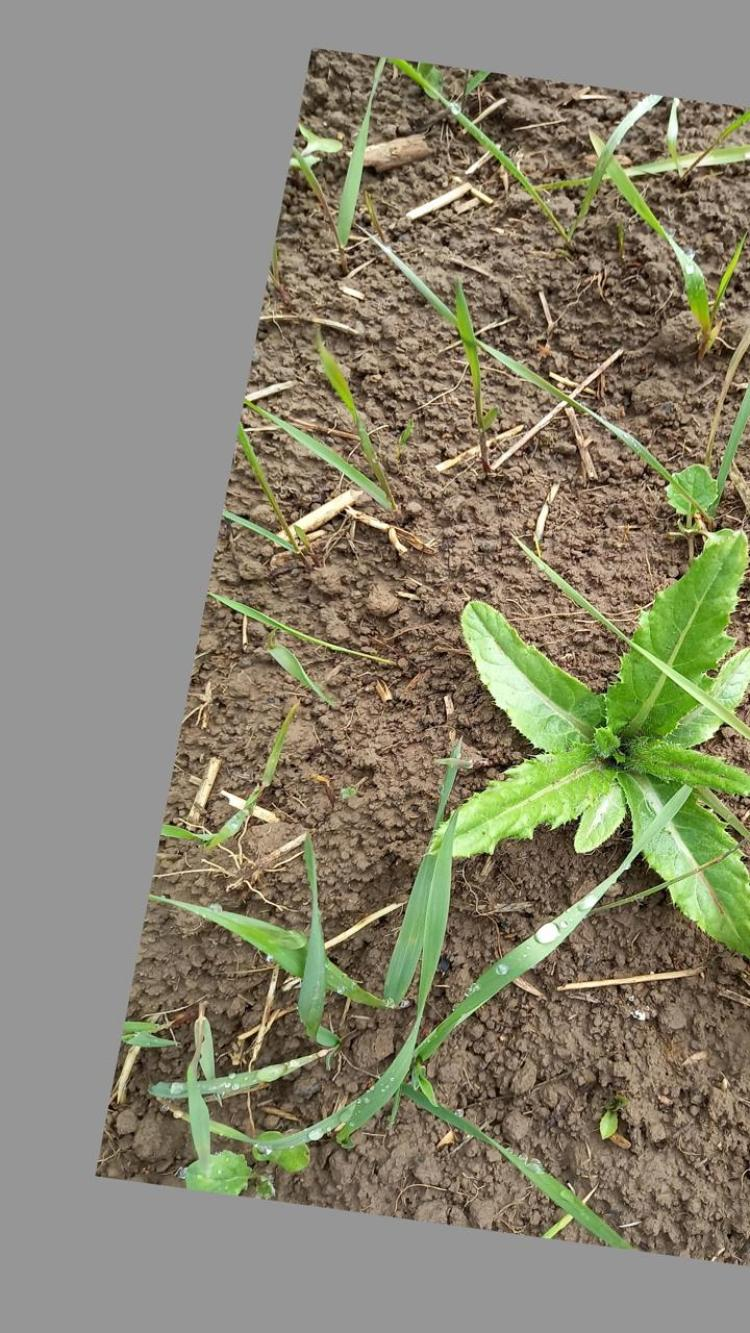bodyak: (429, 525, 750, 956)
